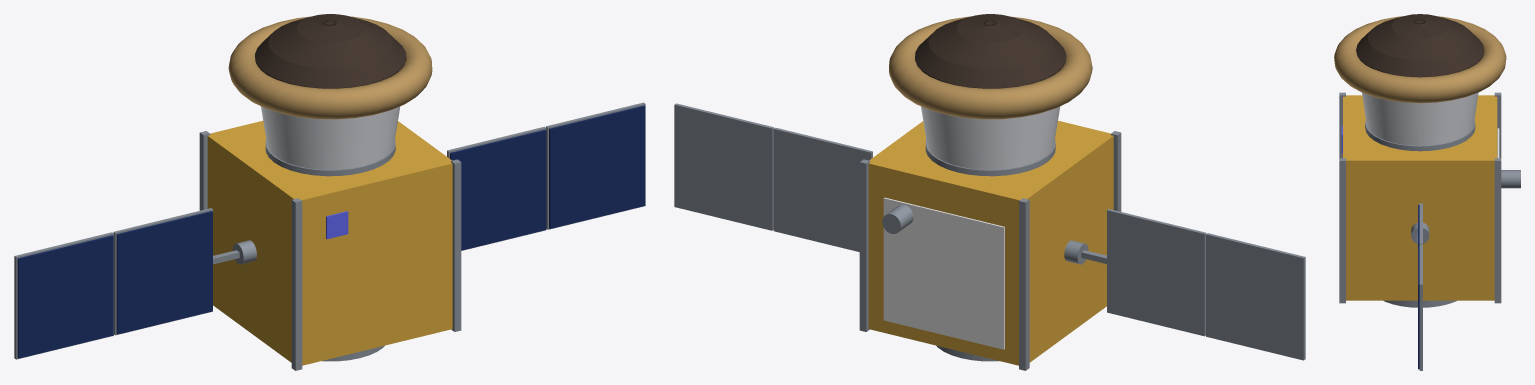
Rendered from SP-BFM.glb.
3 renders of one model, left to right at view 1: azimuth 30°, elevation 25°; view 2: azimuth 150°, elevation 25°; view 3: azimuth 270°, elevation 25°, orthographic. The views are drawn at different scales.
Parts seen in each view (by area): view 1: service_module_structure, solar_panel_+X2, solar_panel_-X2, solar_panel_-X1, solar_panel_+X1, nose, heat_shield_packed, capsule_backshell, corner_rail_-X-Y, corner_rail_+X-Y, panel_frame_-X2, separation_interface (+4 smaller); view 2: service_module_structure, radiator_+Y_face, panel_frame_+X2, panel_frame_-X2, panel_frame_-X1, panel_frame_+X1, nose, heat_shield_packed, capsule_backshell, corner_rail_-X+Y, corner_rail_+X+Y, separation_interface (+2 smaller); view 3: service_module_structure, nose, heat_shield_packed, capsule_backshell, corner_rail_+X+Y, corner_rail_+X-Y, separation_interface, panel_frame_+X2, launch_separation_ring, star_tracker, corner_rail_-X+Y, corner_rail_-X-Y (+3 smaller).
Boxes of the visible parts, x1,y1,x2,y2 form: service_module_structure: [207, 120, 452, 365]; solar_panel_+X2: [549, 105, 645, 228]; solar_panel_-X2: [17, 235, 113, 358]; solar_panel_-X1: [116, 211, 212, 334]; solar_panel_+X1: [450, 130, 546, 250]; nose: [255, 14, 406, 88]; heat_shield_packed: [228, 16, 432, 119]; capsule_backshell: [261, 106, 400, 169]; corner_rail_-X-Y: [291, 198, 302, 370]; corner_rail_+X-Y: [451, 159, 461, 331]; panel_frame_-X2: [14, 232, 113, 359]; separation_interface: [265, 139, 395, 176]; service_module_structure: [868, 120, 1113, 365]; radiator_+Y_face: [883, 197, 1004, 349]; panel_frame_+X2: [674, 103, 773, 230]; panel_frame_-X2: [1206, 233, 1305, 360]; panel_frame_-X1: [1107, 209, 1206, 336]; panel_frame_+X1: [773, 127, 872, 251]; nose: [915, 14, 1066, 88]; heat_shield_packed: [889, 16, 1092, 119]; capsule_backshell: [921, 106, 1060, 169]; corner_rail_-X+Y: [1019, 198, 1029, 370]; corner_rail_+X+Y: [859, 159, 870, 331]; separation_interface: [925, 139, 1055, 176]; service_module_structure: [1343, 95, 1497, 300]; nose: [1356, 14, 1484, 77]; heat_shield_packed: [1334, 16, 1506, 103]; capsule_backshell: [1362, 92, 1478, 145]; corner_rail_+X+Y: [1494, 158, 1501, 303]; corner_rail_+X-Y: [1339, 158, 1345, 303]; separation_interface: [1365, 120, 1475, 151]; panel_frame_+X2: [1419, 244, 1422, 370]; launch_separation_ring: [1383, 300, 1456, 307]; star_tracker: [1501, 170, 1520, 188]; corner_rail_-X+Y: [1494, 92, 1501, 158]; corner_rail_-X-Y: [1339, 92, 1345, 158].
Bounding box in the file's own units: 2.35 × 1.12 × 0.716.
